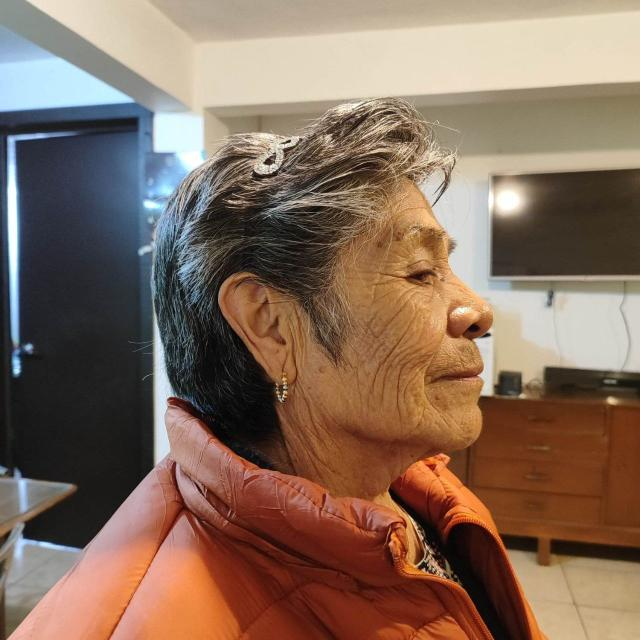ear: (219, 272, 308, 382)
